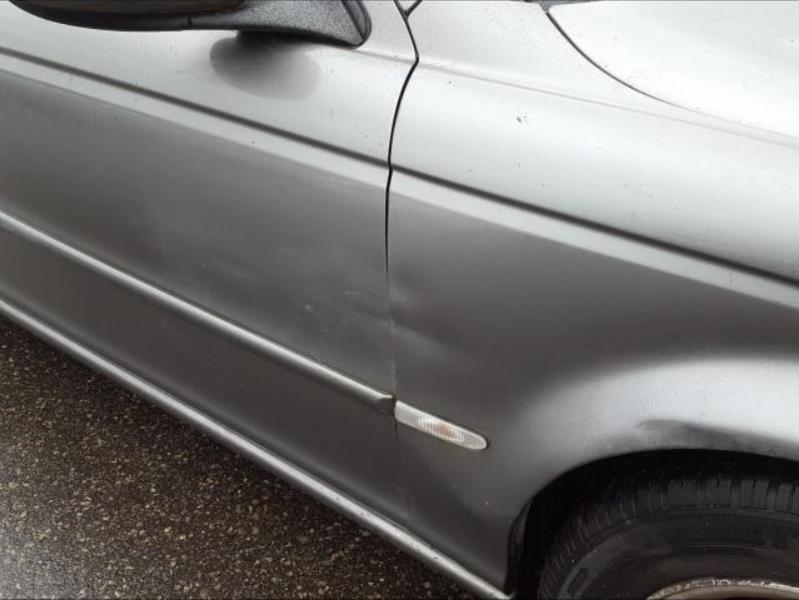Fender: (383, 0, 798, 599)
Front-door: (0, 0, 416, 528)
Front-wheel: (515, 453, 798, 599)
Hood: (544, 0, 798, 147)
Mirror: (49, 0, 366, 44)
Rocker-panel: (2, 300, 508, 599)
